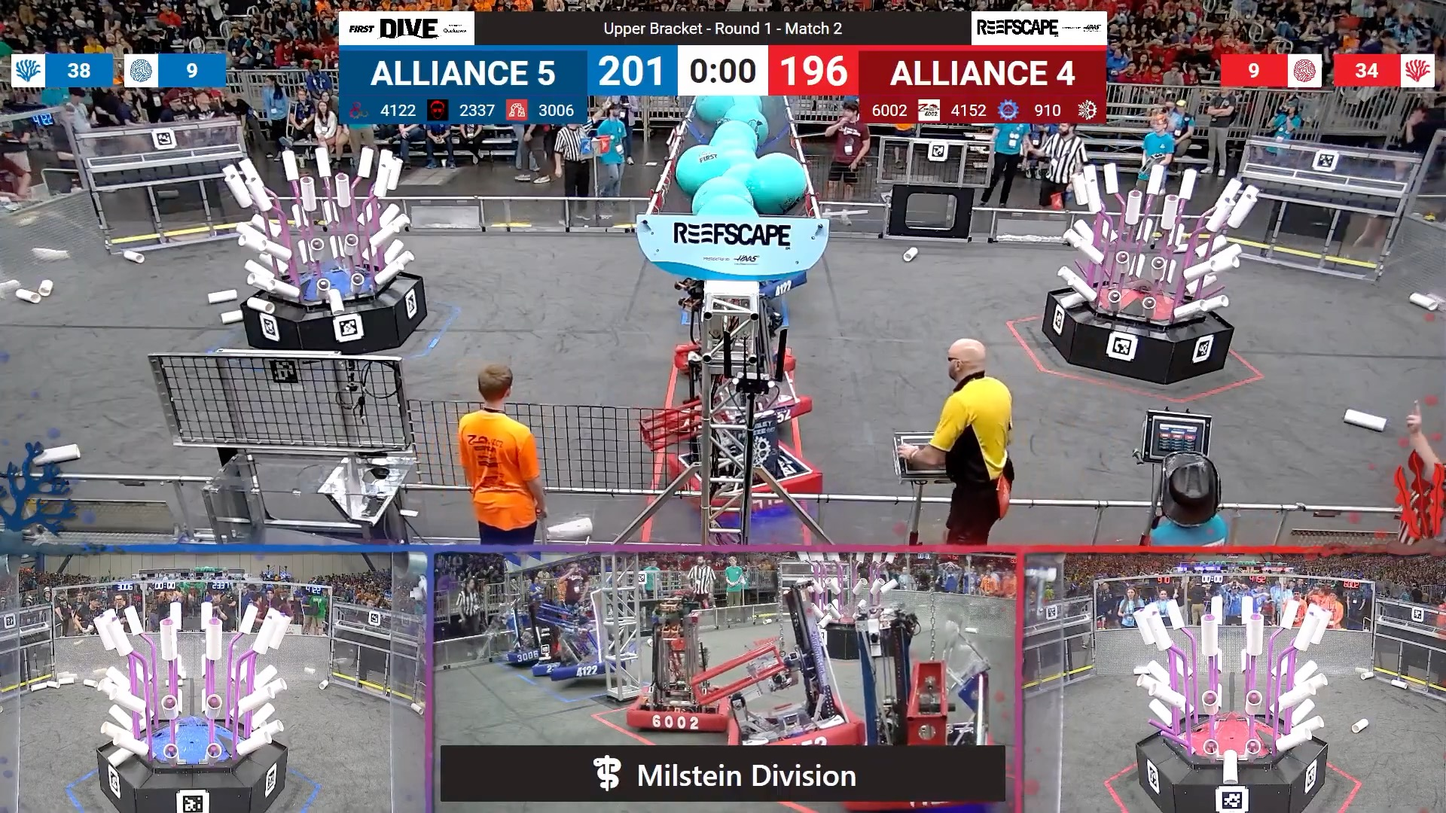bumpers: (725, 695, 862, 751), (623, 690, 737, 735), (500, 649, 552, 668)
